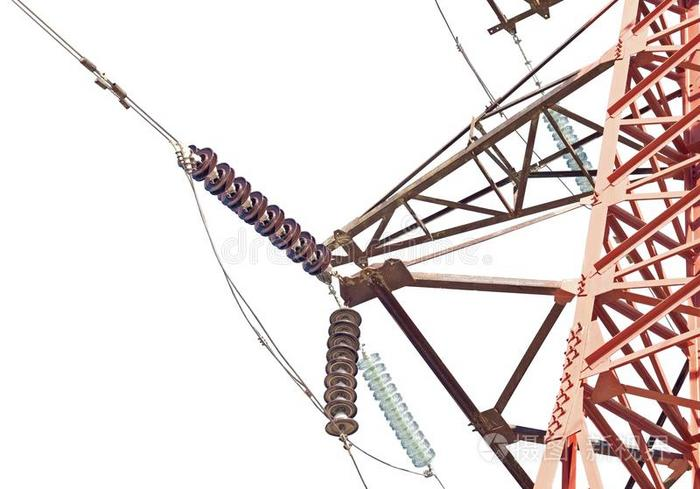insulator: (191, 146, 333, 273), (356, 355, 436, 466), (324, 310, 364, 436), (544, 111, 596, 190)
